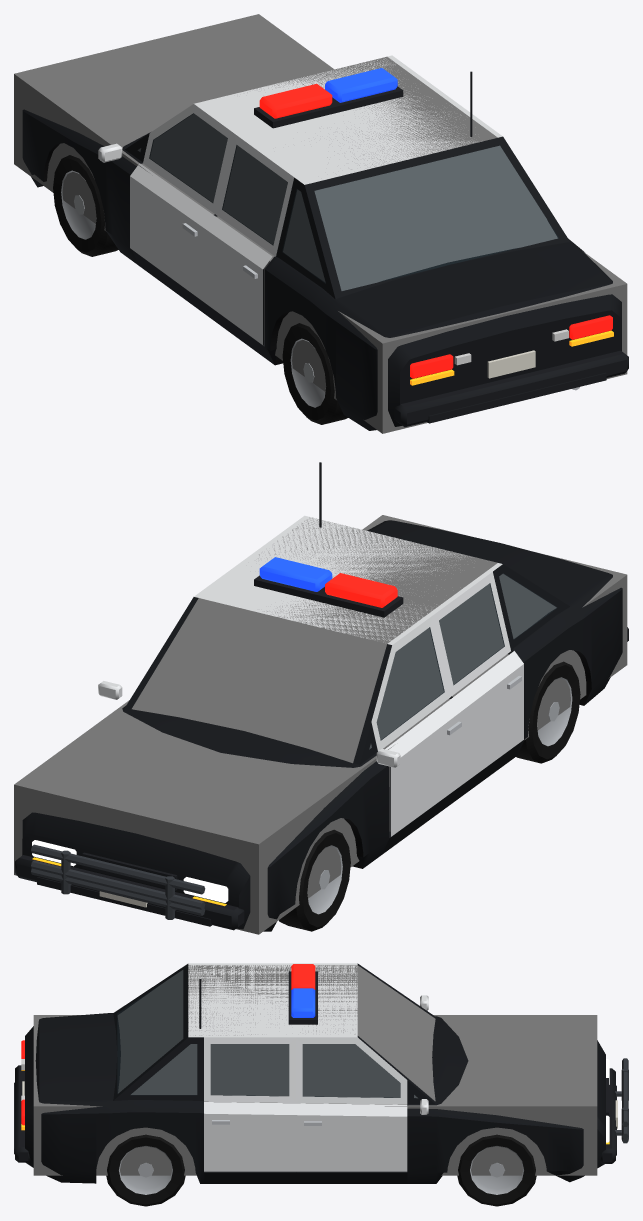
Rendered from police.glb.
3 views of the same model, one above another, from view 1: azimuth 30°, elevation 25°; view 2: azimuth 150°, elevation 25°; view 3: azimuth 270°, elevation 25° (orthographic). The views are drawn at different scales.
Visible parts, largest first — view 1: police, police_Body, police_Cabin, police_Door_FL, police_Door_RL, police_Bumper_R, police_Wheel_FL, police_Wheel_RL; view 2: police, police_Body, police_Cabin, police_Door_FL, police_Door_RL, police_Wheel_FL, police_Wheel_RL, police_Bumper_F, police_Grille; view 3: police, police_Body, police_Cabin, police_Door_FR, police_Door_RR, police_Wheel_FR, police_Wheel_RR, police_Bumper_R, police_Bumper_F.
Boxes of the visible parts, x1,y1,x2,y2 form: police: [14, 14, 627, 433]; police_Body: [22, 68, 621, 430]; police_Cabin: [125, 55, 569, 299]; police_Door_FL: [130, 104, 233, 300]; police_Door_RL: [203, 133, 294, 344]; police_Bumper_R: [394, 350, 628, 427]; police_Wheel_FL: [53, 155, 118, 256]; police_Wheel_RL: [282, 323, 347, 424]; police: [14, 515, 627, 934]; police_Body: [22, 462, 622, 931]; police_Cabin: [125, 515, 569, 765]; police_Door_FL: [371, 616, 463, 836]; police_Door_RL: [432, 571, 523, 783]; police_Wheel_FL: [279, 829, 350, 931]; police_Wheel_RL: [516, 661, 580, 763]; police_Bumper_F: [15, 855, 244, 930]; police_Grille: [82, 852, 177, 890]; police: [33, 965, 597, 1175]; police_Body: [21, 964, 628, 1183]; police_Cabin: [113, 963, 435, 1104]; police_Door_FR: [296, 1037, 407, 1171]; police_Door_RR: [204, 1037, 295, 1171]; police_Wheel_FR: [457, 1134, 536, 1206]; police_Wheel_RR: [106, 1134, 185, 1206]; police_Bumper_R: [14, 1065, 30, 1162]; police_Bumper_F: [600, 1068, 617, 1163].
Size of what is drawn, in the model's own units: 2.18 by 1.92 by 5.08.
